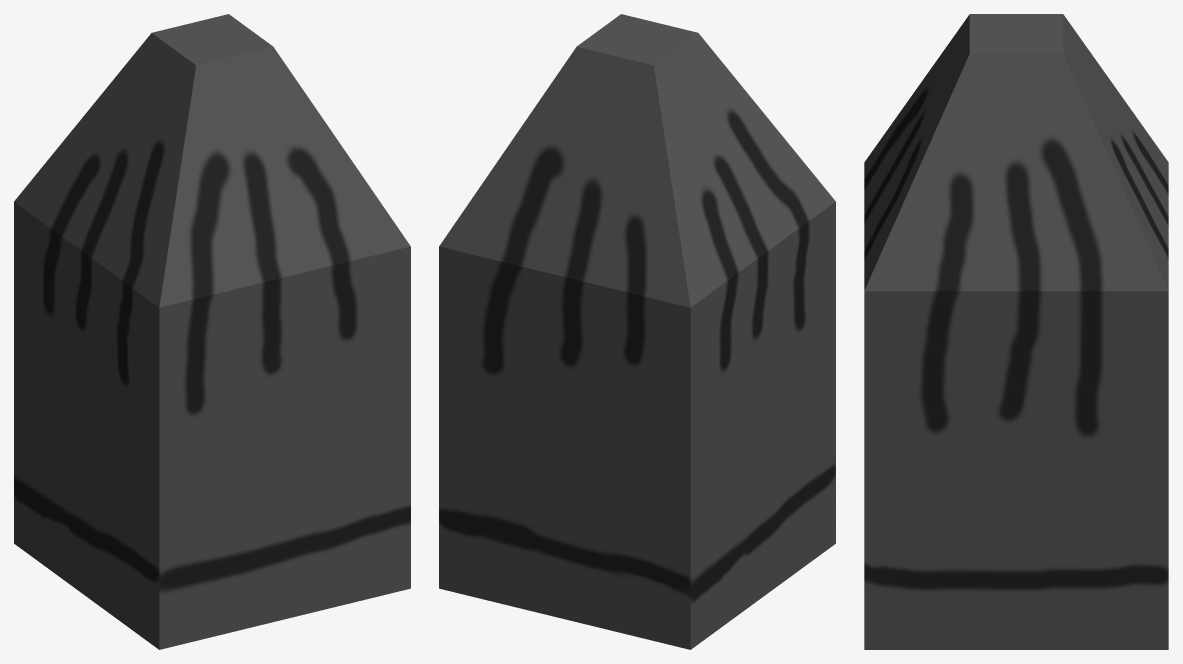
File: bullet.glb
3 views of the same model, side by side, from view 1: azimuth 30°, elevation 25°; view 2: azimuth 150°, elevation 25°; view 3: azimuth 270°, elevation 25° (orthographic). The views are drawn at different scales.
Visible parts, largest first — view 1: Cube; view 2: Cube; view 3: Cube.
Boxes of the visible parts, x1=… form: Cube: x1=14, y1=14, x2=410, y2=649; Cube: x1=439, y1=14, x2=835, y2=649; Cube: x1=864, y1=14, x2=1168, y2=649.
Size of the model in its own units: 1 by 2 by 1.
1 material, 1 textured.
